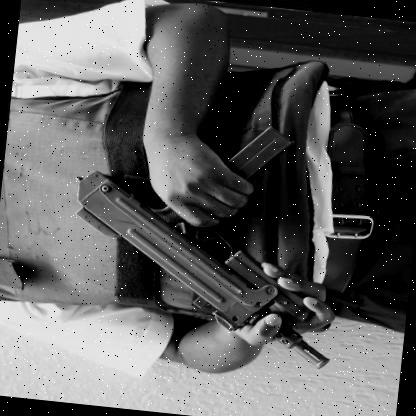rifle: (47, 111, 376, 378)
